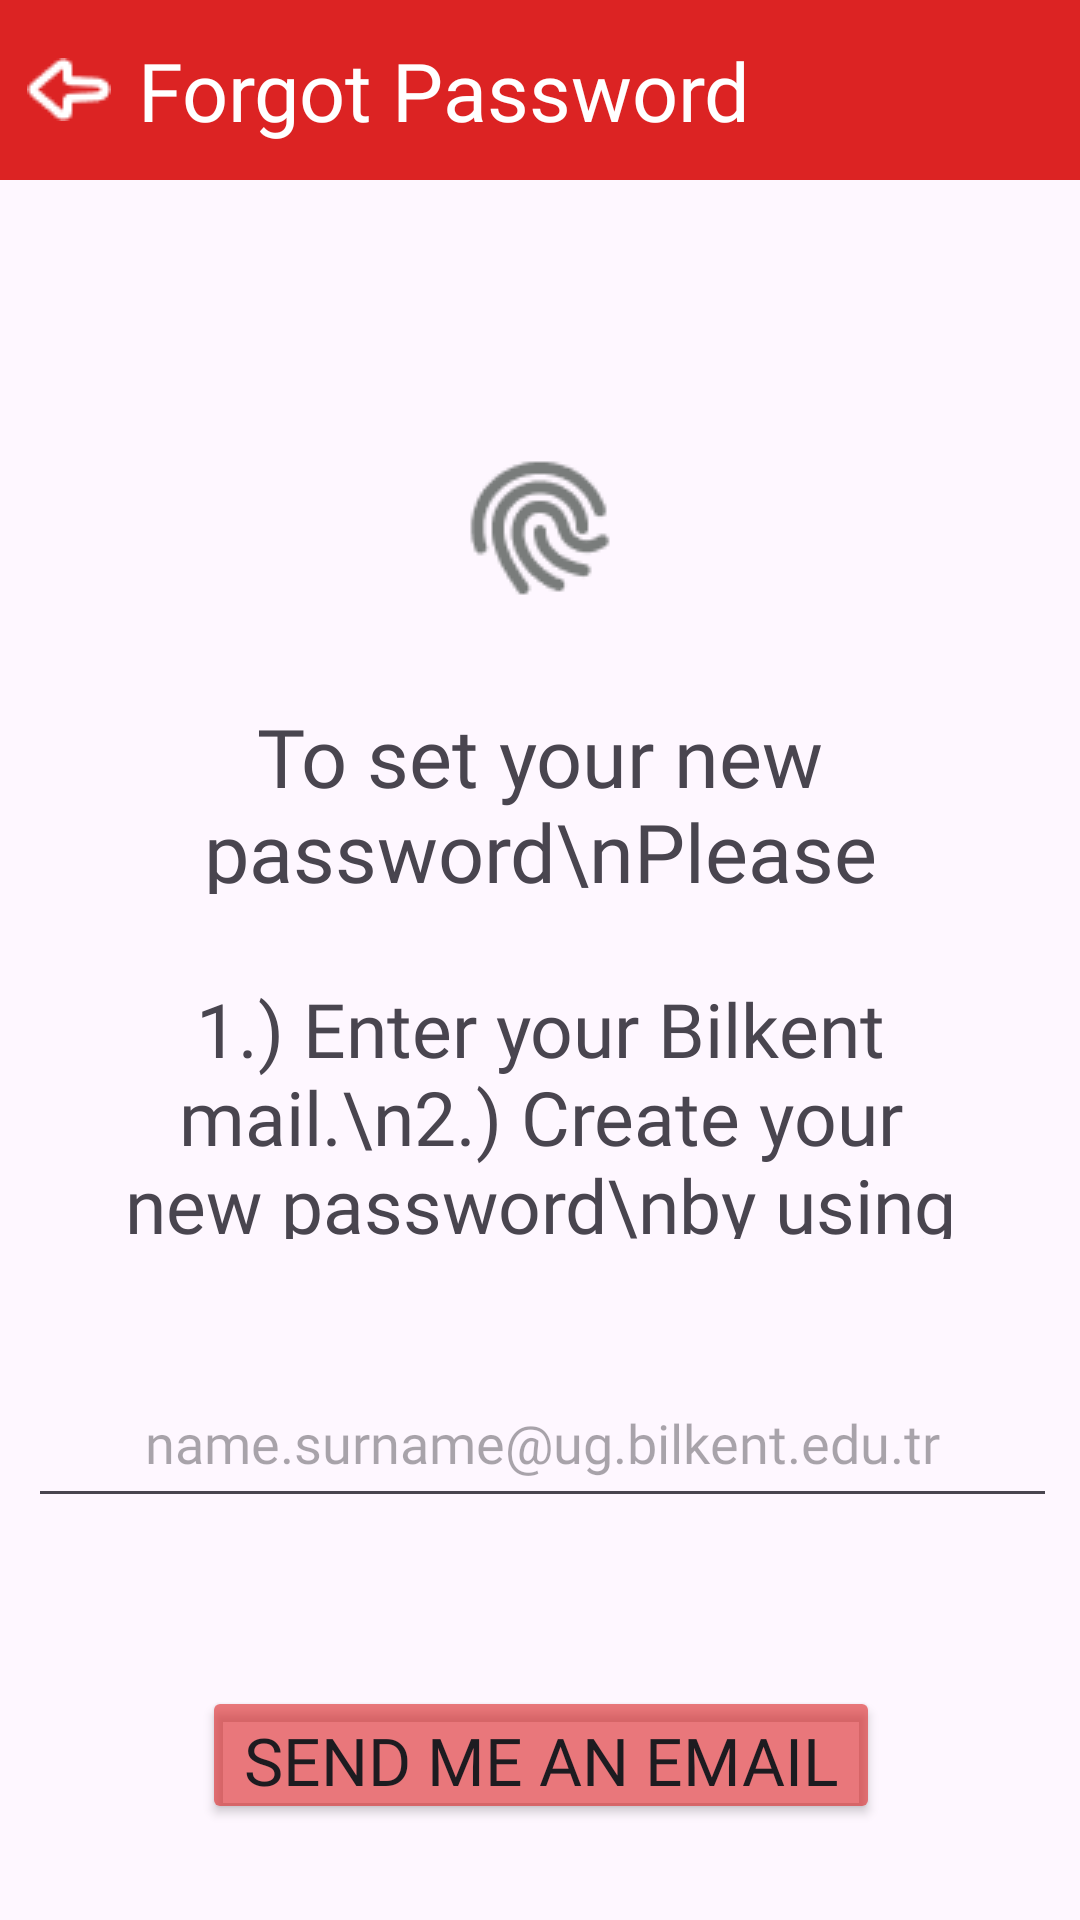

Where icons sit on this 1080*1920 app screen, as (x1, y1, x2, y2):
fingerprint: (470, 461, 610, 595)
